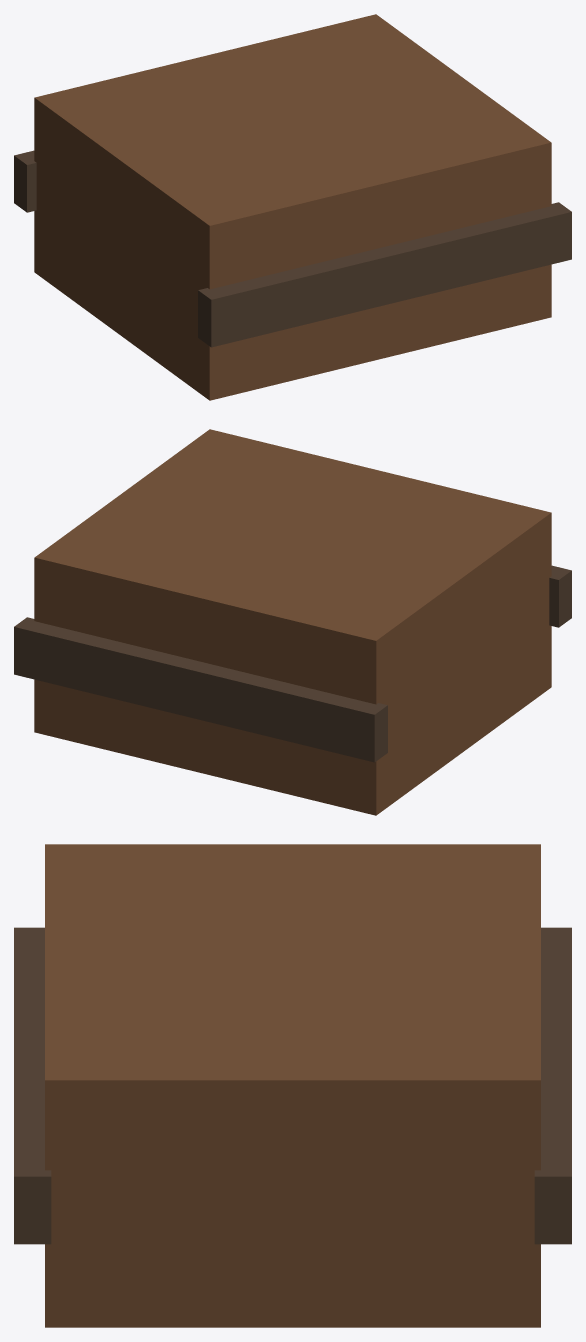
Rendered from crate.glb.
3 renders of one model, top to bottom at view 1: azimuth 30°, elevation 25°; view 2: azimuth 150°, elevation 25°; view 3: azimuth 270°, elevation 25°, orthographic. The views are drawn at different scales.
Parts seen in each view (by area): view 1: crate-surface; view 2: crate-surface; view 3: crate-surface.
Part boxes in pixels (x1,y1,x2,y2): crate-surface: (14, 14, 571, 400); crate-surface: (14, 429, 571, 815); crate-surface: (14, 844, 571, 1327).
Size of the model in its own units: 0.95 by 0.44 by 0.9.
